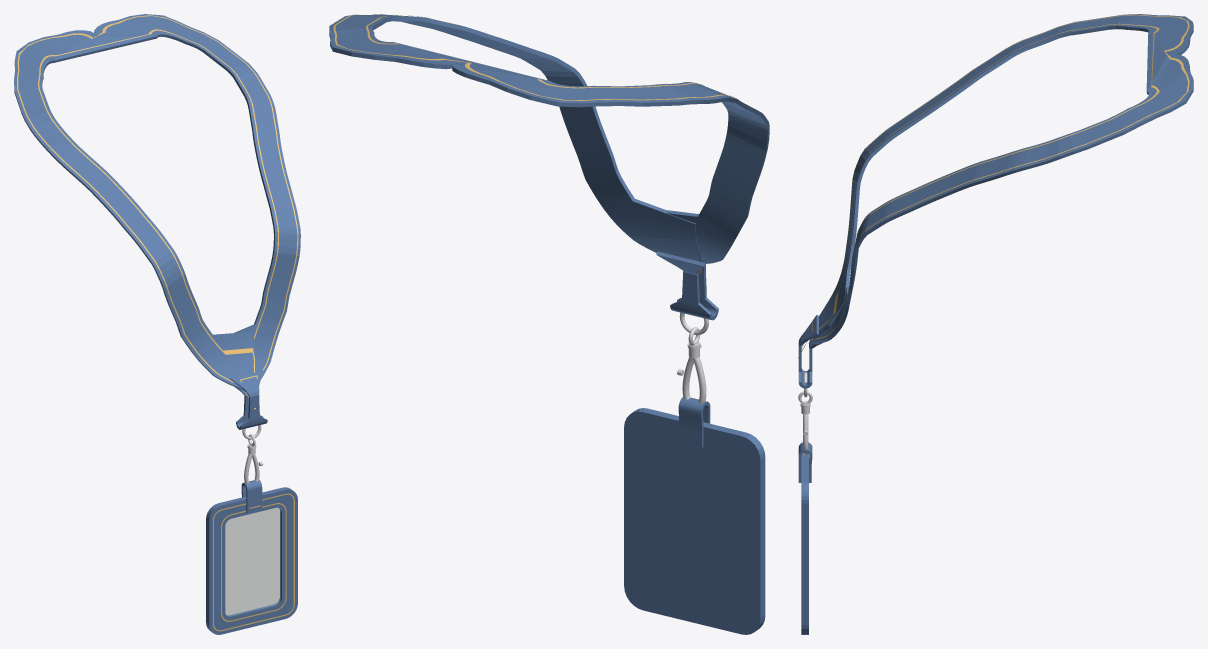
File: denyx_badge.glb
3 renders of one model, left to right at view 1: azimuth 30°, elevation 25°; view 2: azimuth 150°, elevation 25°; view 3: azimuth 270°, elevation 25°, orthographic. The views are drawn at different scales.
Visible parts, largest first — view 1: DENYX_Badge; view 2: DENYX_Badge; view 3: DENYX_Badge.
Boxes of the visible parts, <box> form: DENYX_Badge: <box>14,14,300,634</box>; DENYX_Badge: <box>329,14,769,634</box>; DENYX_Badge: <box>798,14,1193,634</box>.
Size of the model in its own units: 0.1842 by 0.3713 by 0.2365.
